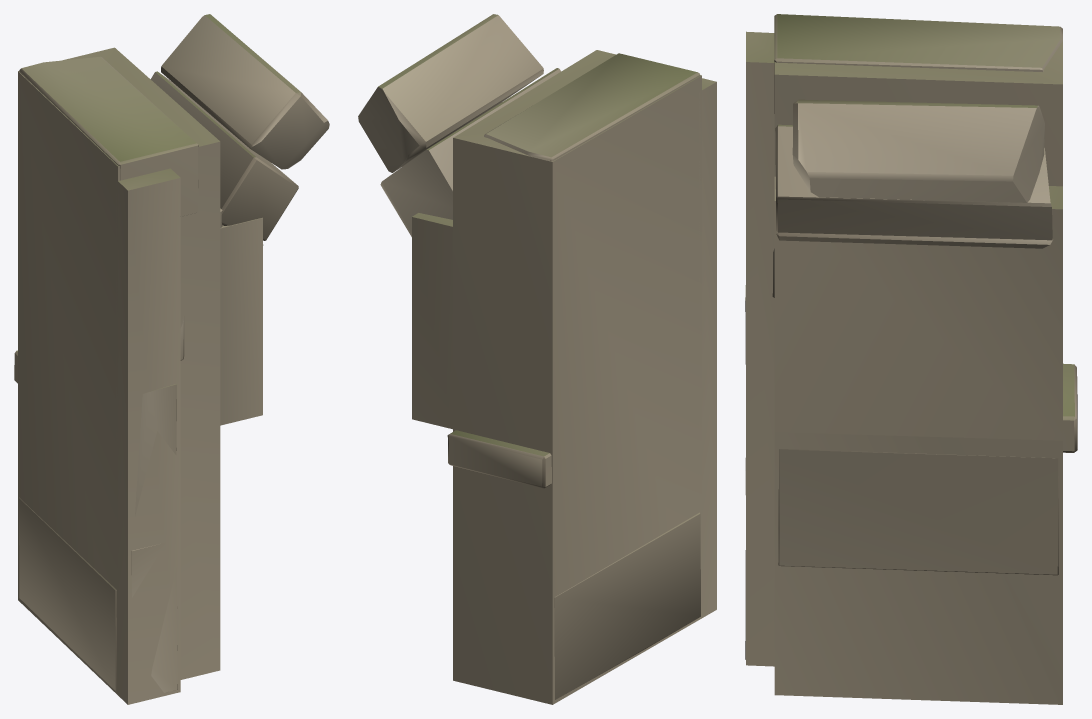
The model's file is arena_upper_broken.glb.
The picture shows the model from 3 angles, left to right: view 1: azimuth 30°, elevation 25°; view 2: azimuth 150°, elevation 25°; view 3: azimuth 270°, elevation 25°; orthographic projection. The views are drawn at different scales.
Visible parts, largest first — view 1: arena_upper_broken_far, arena_upper_broken; view 2: arena_upper_broken_far, arena_upper_broken; view 3: arena_upper_broken_far, arena_upper_broken.
Boxes of the visible parts, x1=… form: arena_upper_broken_far: x1=18, y1=47, x2=262, y2=704; arena_upper_broken: x1=14, y1=14, x2=329, y2=692; arena_upper_broken_far: x1=412, y1=50, x2=716, y2=704; arena_upper_broken: x1=358, y1=14, x2=700, y2=699; arena_upper_broken_far: x1=746, y1=31, x2=1062, y2=704; arena_upper_broken: x1=745, y1=14, x2=1077, y2=659.
Bounding box in the file's own units: 5.54 × 12.35 × 5.76.
